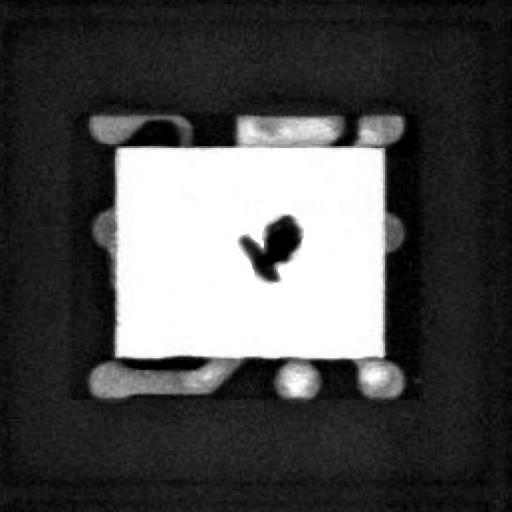DIE_INK: (224, 220, 286, 294)
